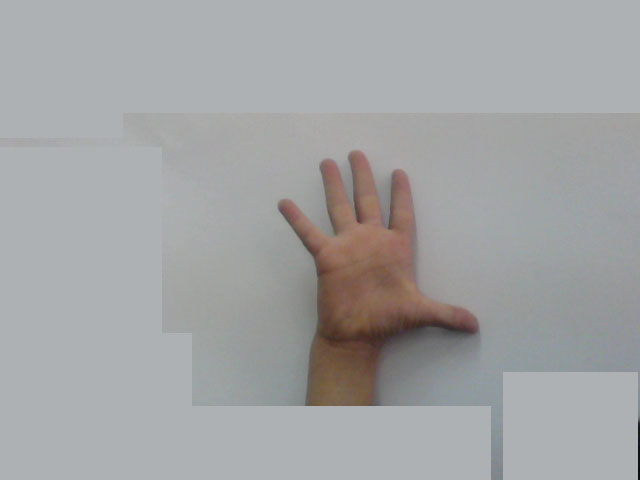hand: (267, 138, 493, 344)
